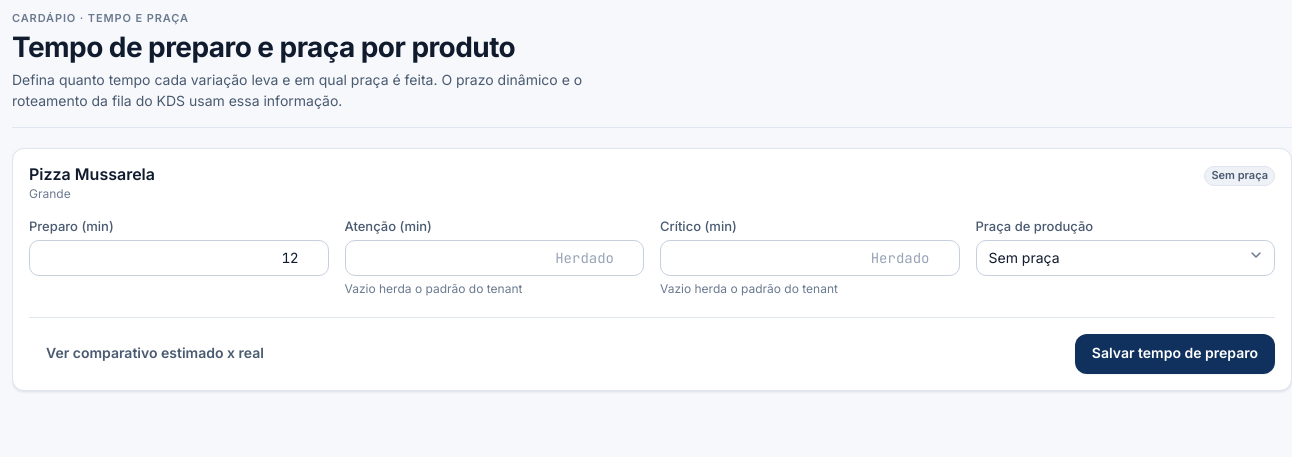
Test: PrepTimePage › exibe mensagem de erro quando a atualização falha
Click the button "Salvar tempo de preparo": click(1175, 354) [1075,334,1275,374]
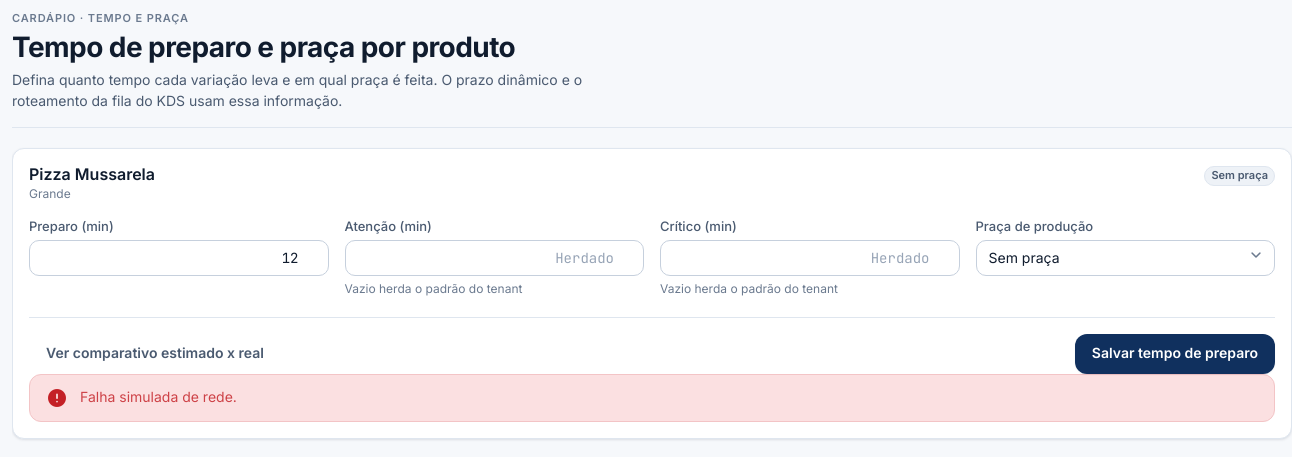
Now the text "Falha simulada de rede." is shown, box [80,387,237,407]
